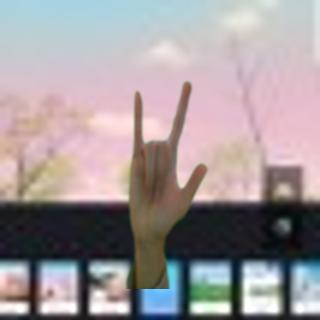ILY: (119, 76, 211, 246)
